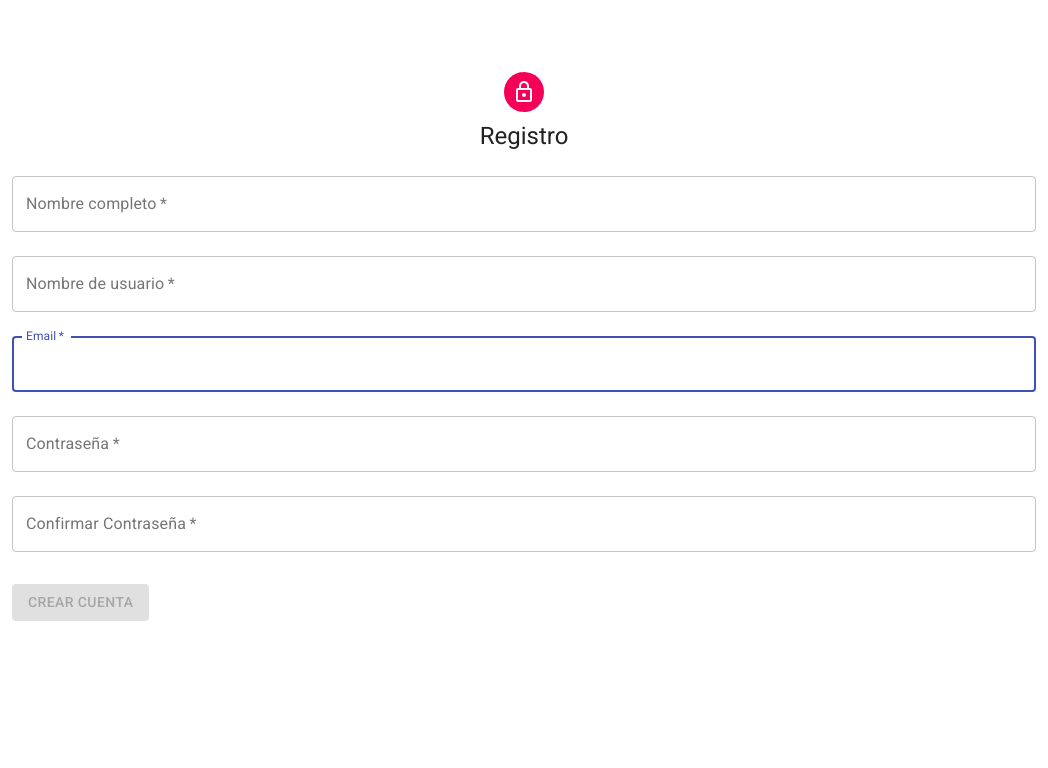
SignUp test › When submitting sign up form › should shows success message if the signup process is successful
Type "Full name" into the field with test id "signup-fullNameField" at (524, 204), box [12,176,1036,232]
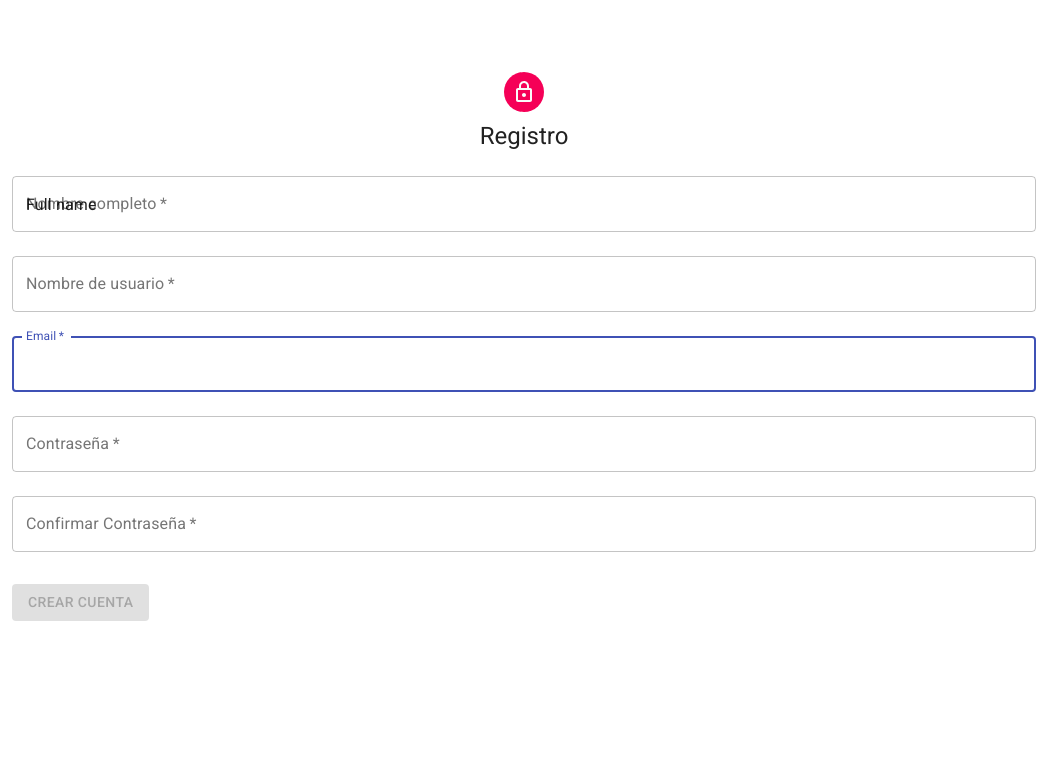
Type "username" into the field with test id "signup-usernameField" at (524, 284), box [12,256,1036,312]
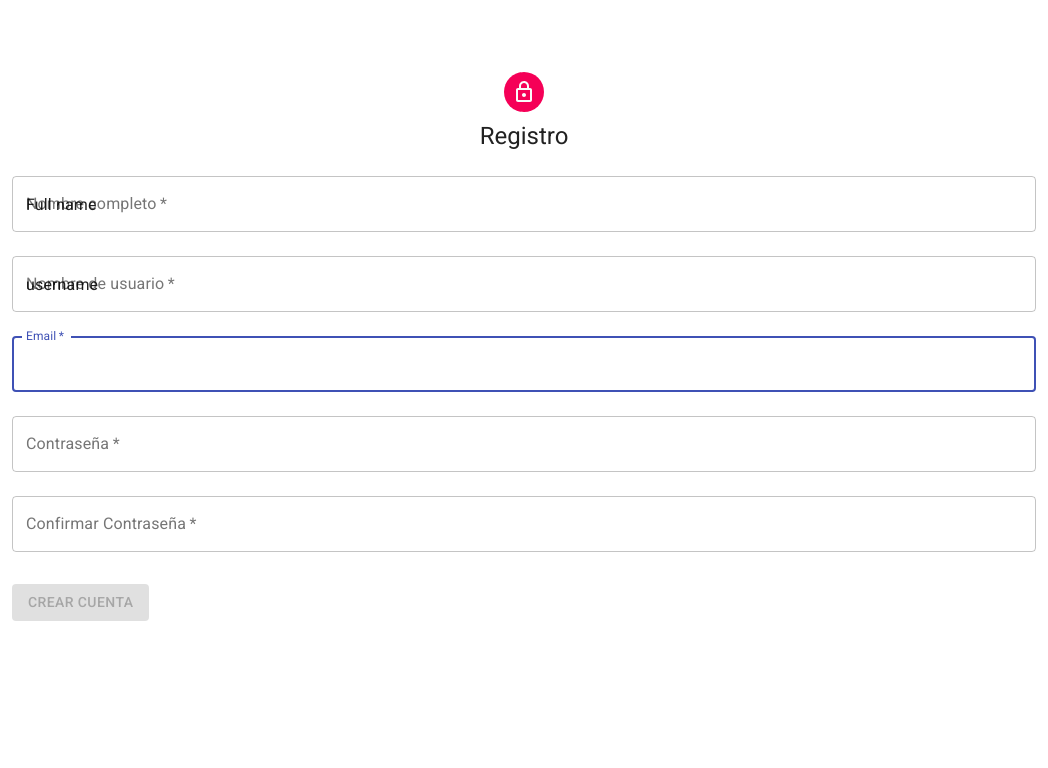
Type "mockEmail@test.com" into the field with test id "signup-emailField" at (524, 364), box [12,336,1036,392]
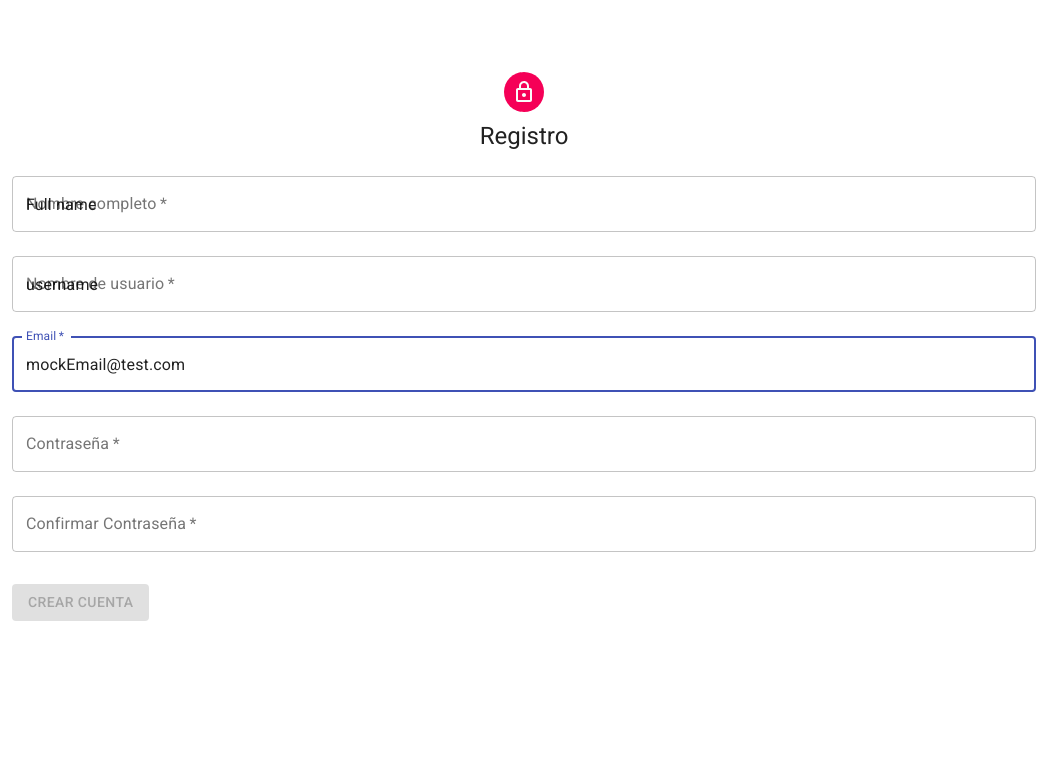
Type "pass1" into the password field with test id "signup-passwordField" at (524, 444), box [12,416,1036,472]
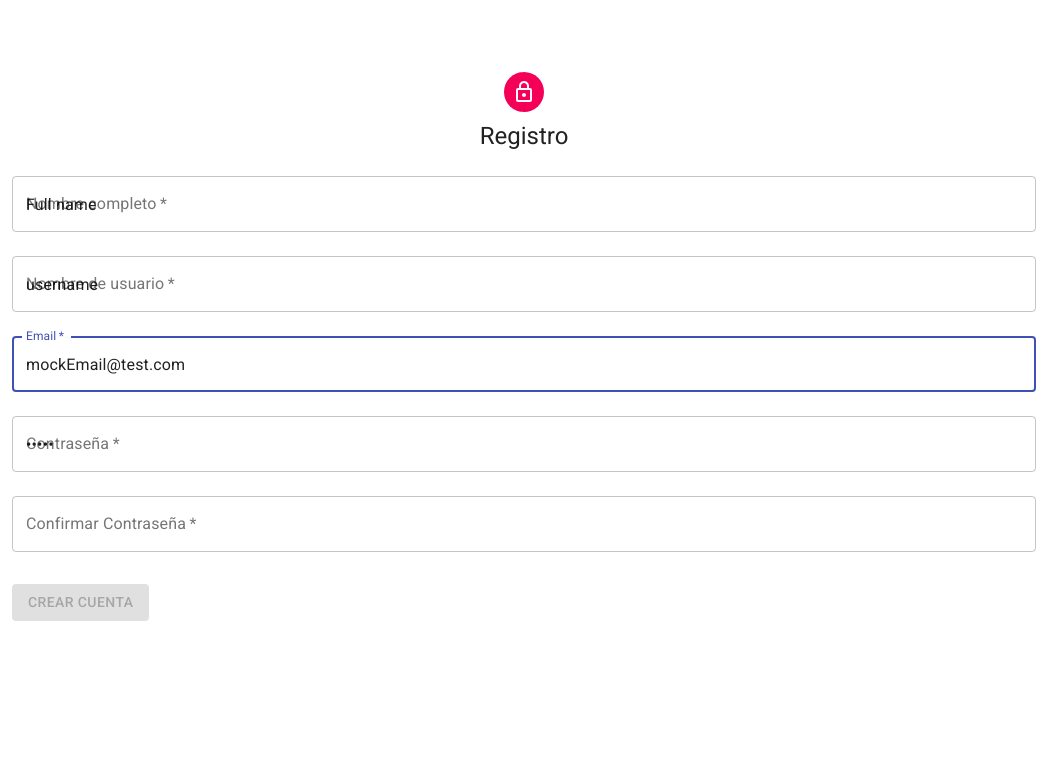
Type "pass1" into the password field with test id "signup-repeatPasswordField" at (524, 524), box [12,496,1036,552]
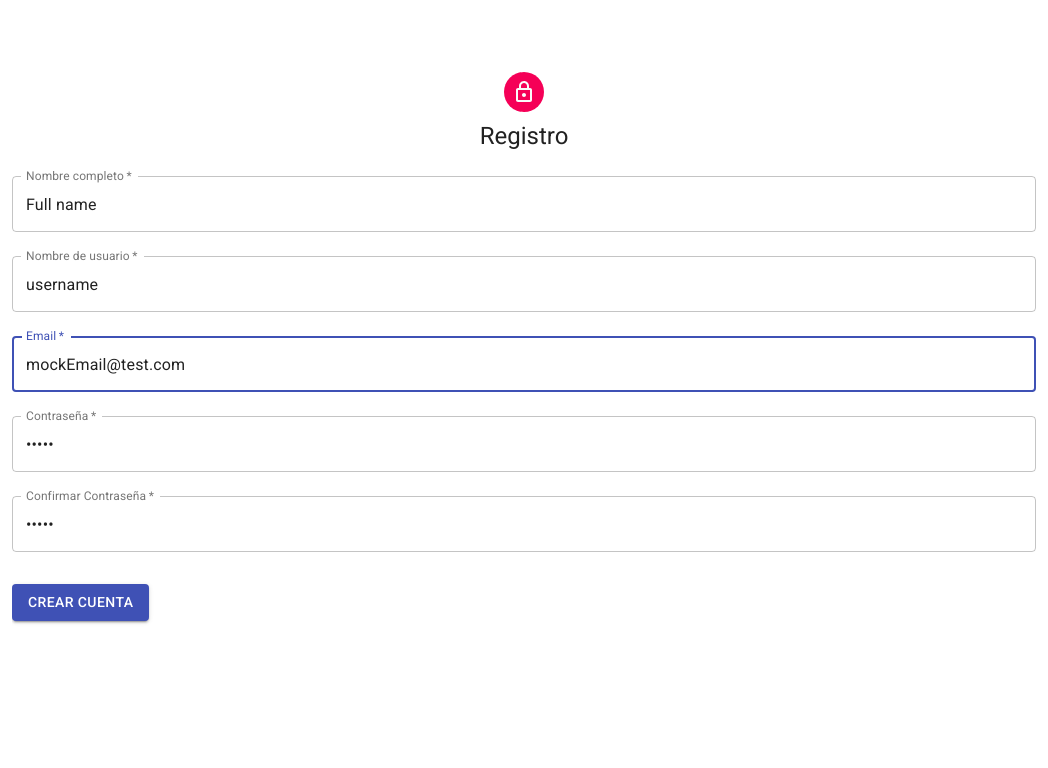
Click the button with test id "signup-submitButton" at (81, 602), box [12,584,149,620]
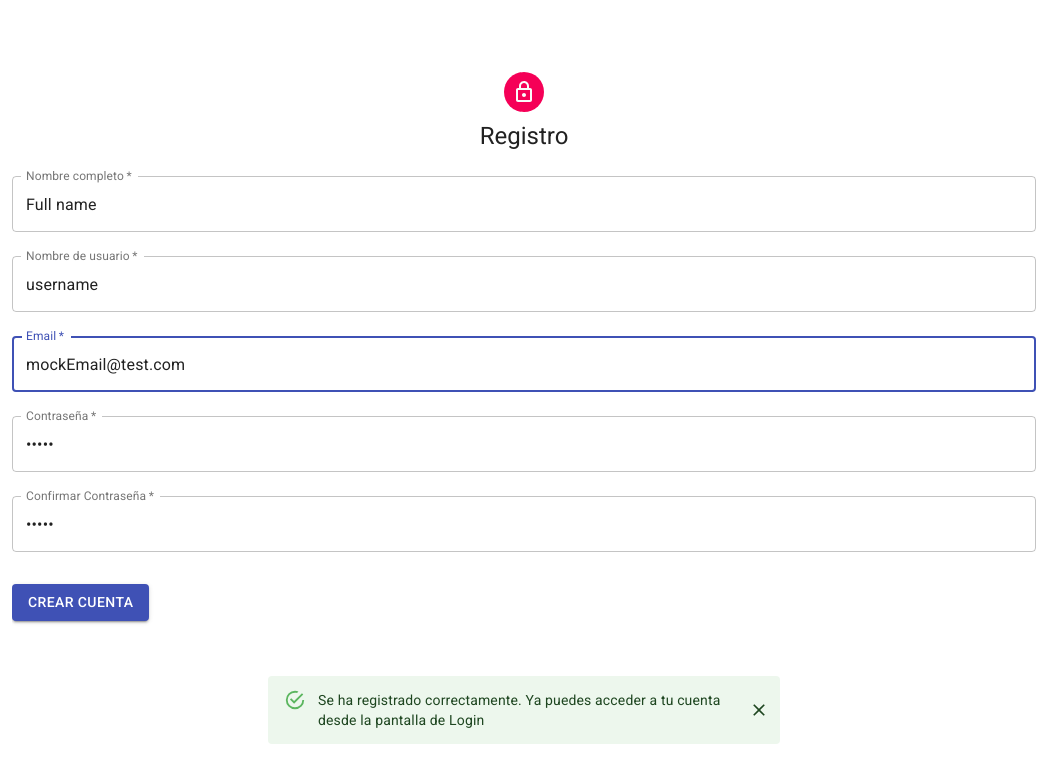
Expected: the element with test id "signup-success" is shown, [268,676,780,744]
